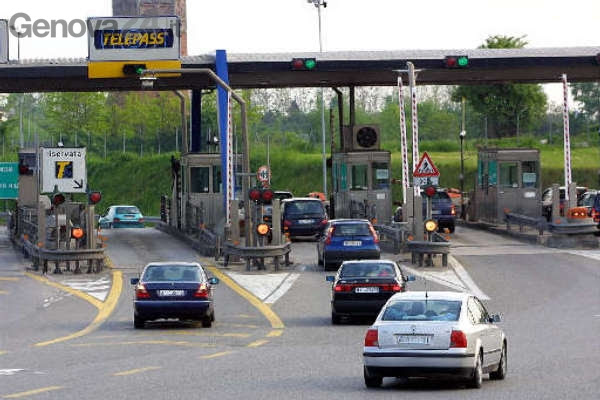car: (366, 280, 493, 388), (119, 207, 222, 328), (322, 207, 409, 319)
